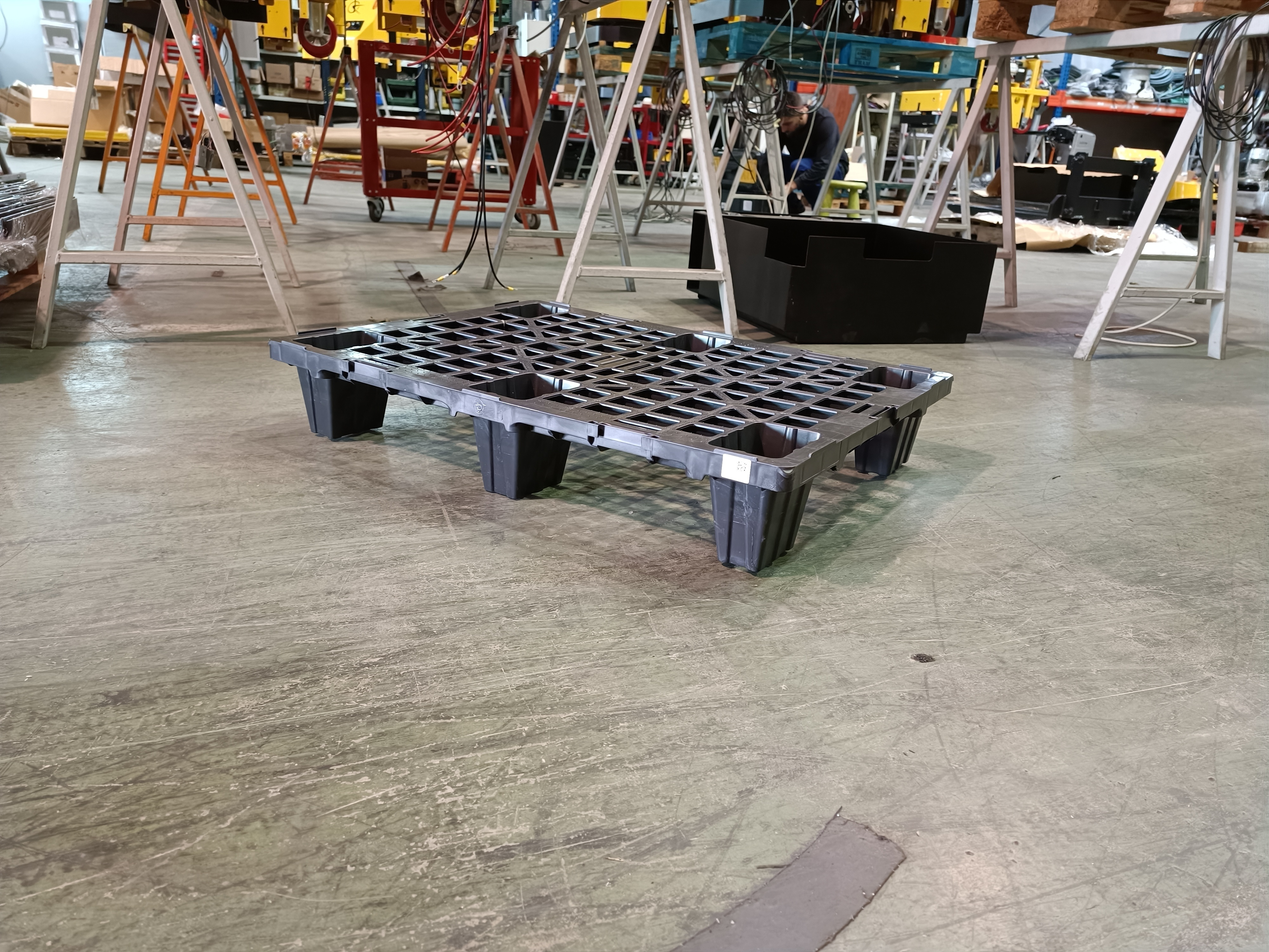block: (475, 414, 569, 506), (714, 483, 808, 575), (293, 363, 388, 443), (851, 405, 925, 478)
front: (259, 356, 772, 604)
hole pallet: (522, 431, 711, 563), (345, 383, 483, 483)
